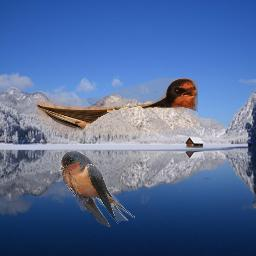Swallow: (37, 77, 198, 135), (59, 150, 135, 227)
